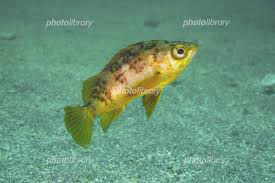mebaru: (60, 22, 209, 151)
